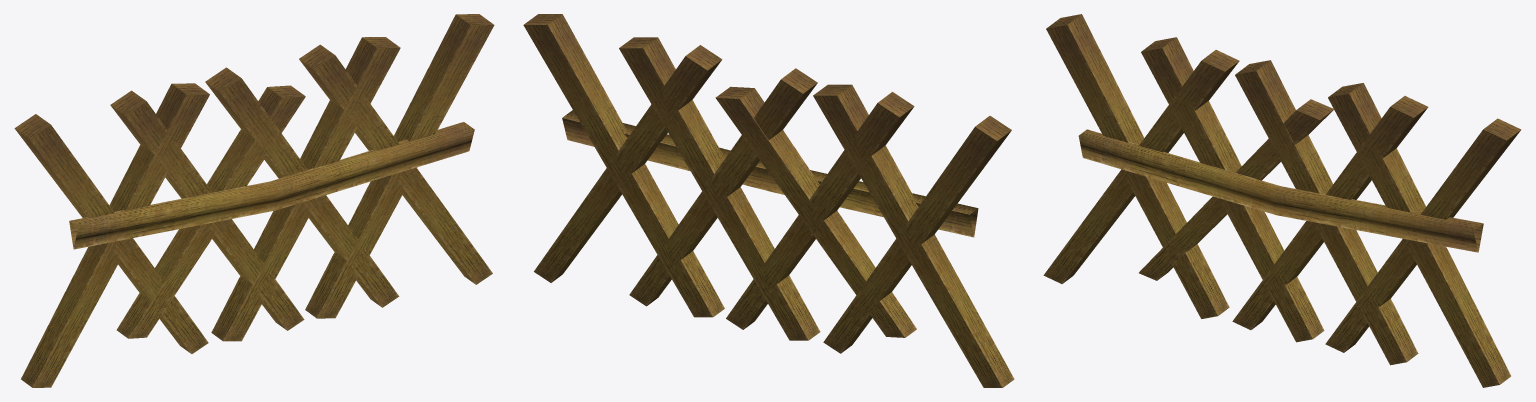
File: daoju_02.fbx
3 renders of one model, left to right at view 1: azimuth 30°, elevation 25°; view 2: azimuth 150°, elevation 25°; view 3: azimuth 330°, elevation 25°, orthographic. The views are drawn at different scales.
Visible parts, largest first — view 1: polySurface2284; view 2: polySurface2284; view 3: polySurface2284.
Boxes of the visible parts, x1,y1,x2,y2 form: polySurface2284: (14, 14, 494, 387); polySurface2284: (523, 14, 1014, 387); polySurface2284: (1043, 14, 1521, 387).
Bounding box in the file's own units: 1.44 × 0.7714 × 0.142.
